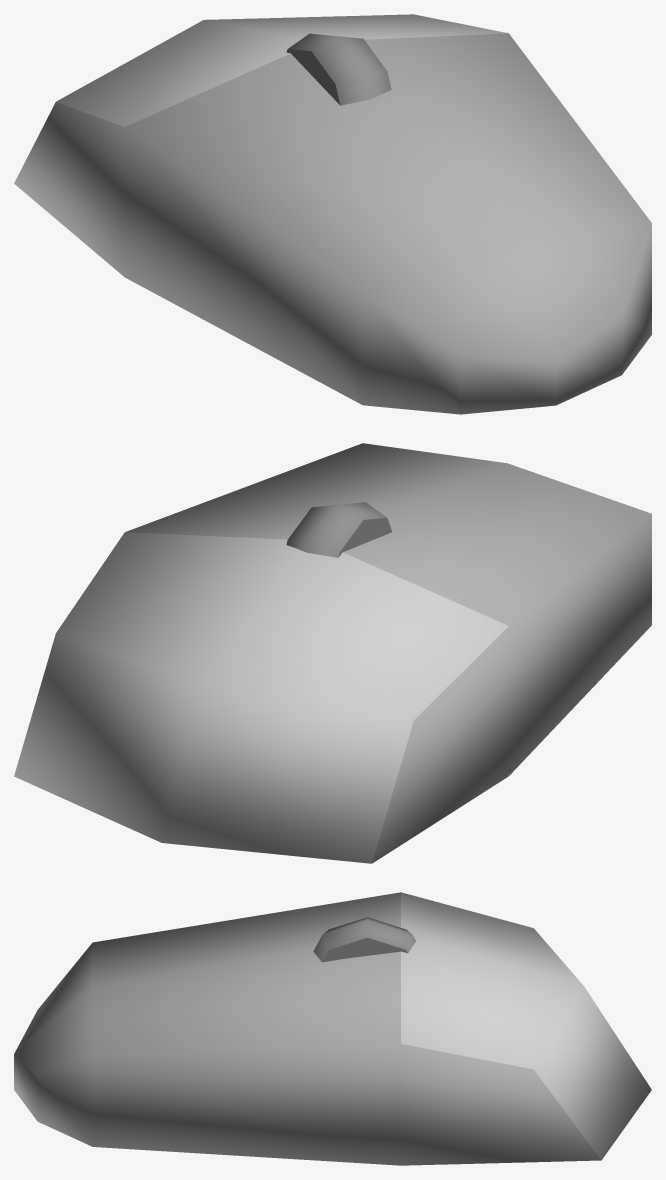
File: PC Mouse.fbx
3 views of the same model, one above another, from view 1: azimuth 30°, elevation 25°; view 2: azimuth 150°, elevation 25°; view 3: azimuth 270°, elevation 25° (orthographic). The views are drawn at different scales.
Visible parts, largest first — view 1: PC Mouse; view 2: PC Mouse; view 3: PC Mouse.
Part boxes in pixels (x1,y1,x2,y2): PC Mouse: [14, 14, 651, 414]; PC Mouse: [14, 443, 651, 863]; PC Mouse: [14, 892, 651, 1165].
Bounding box in the file's own units: 8.26 × 4.31 × 14.69.
